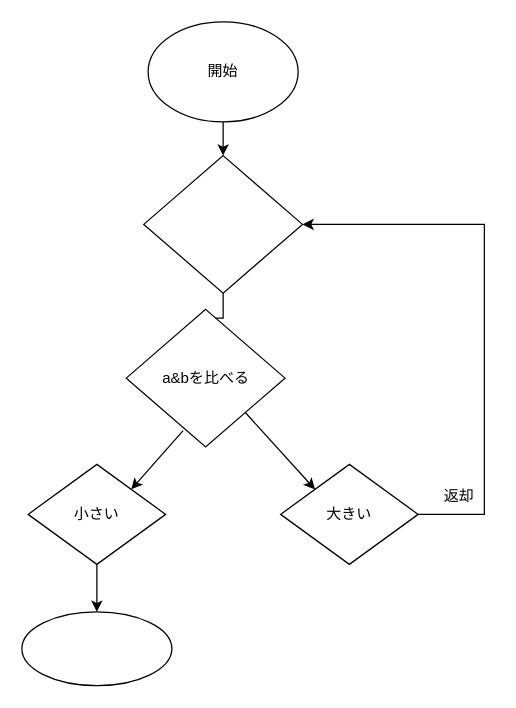
Some shapes in this 516 by 708 pixel diagram are drawn without their labels. The shapes that lost their labels are listed below. From the top down, each one's box as (x1, y1, x2, y2) in pixels, then its label:
(142, 154, 302, 293): 2つ数字(a,b)を入力
(21, 611, 172, 686): 終了
